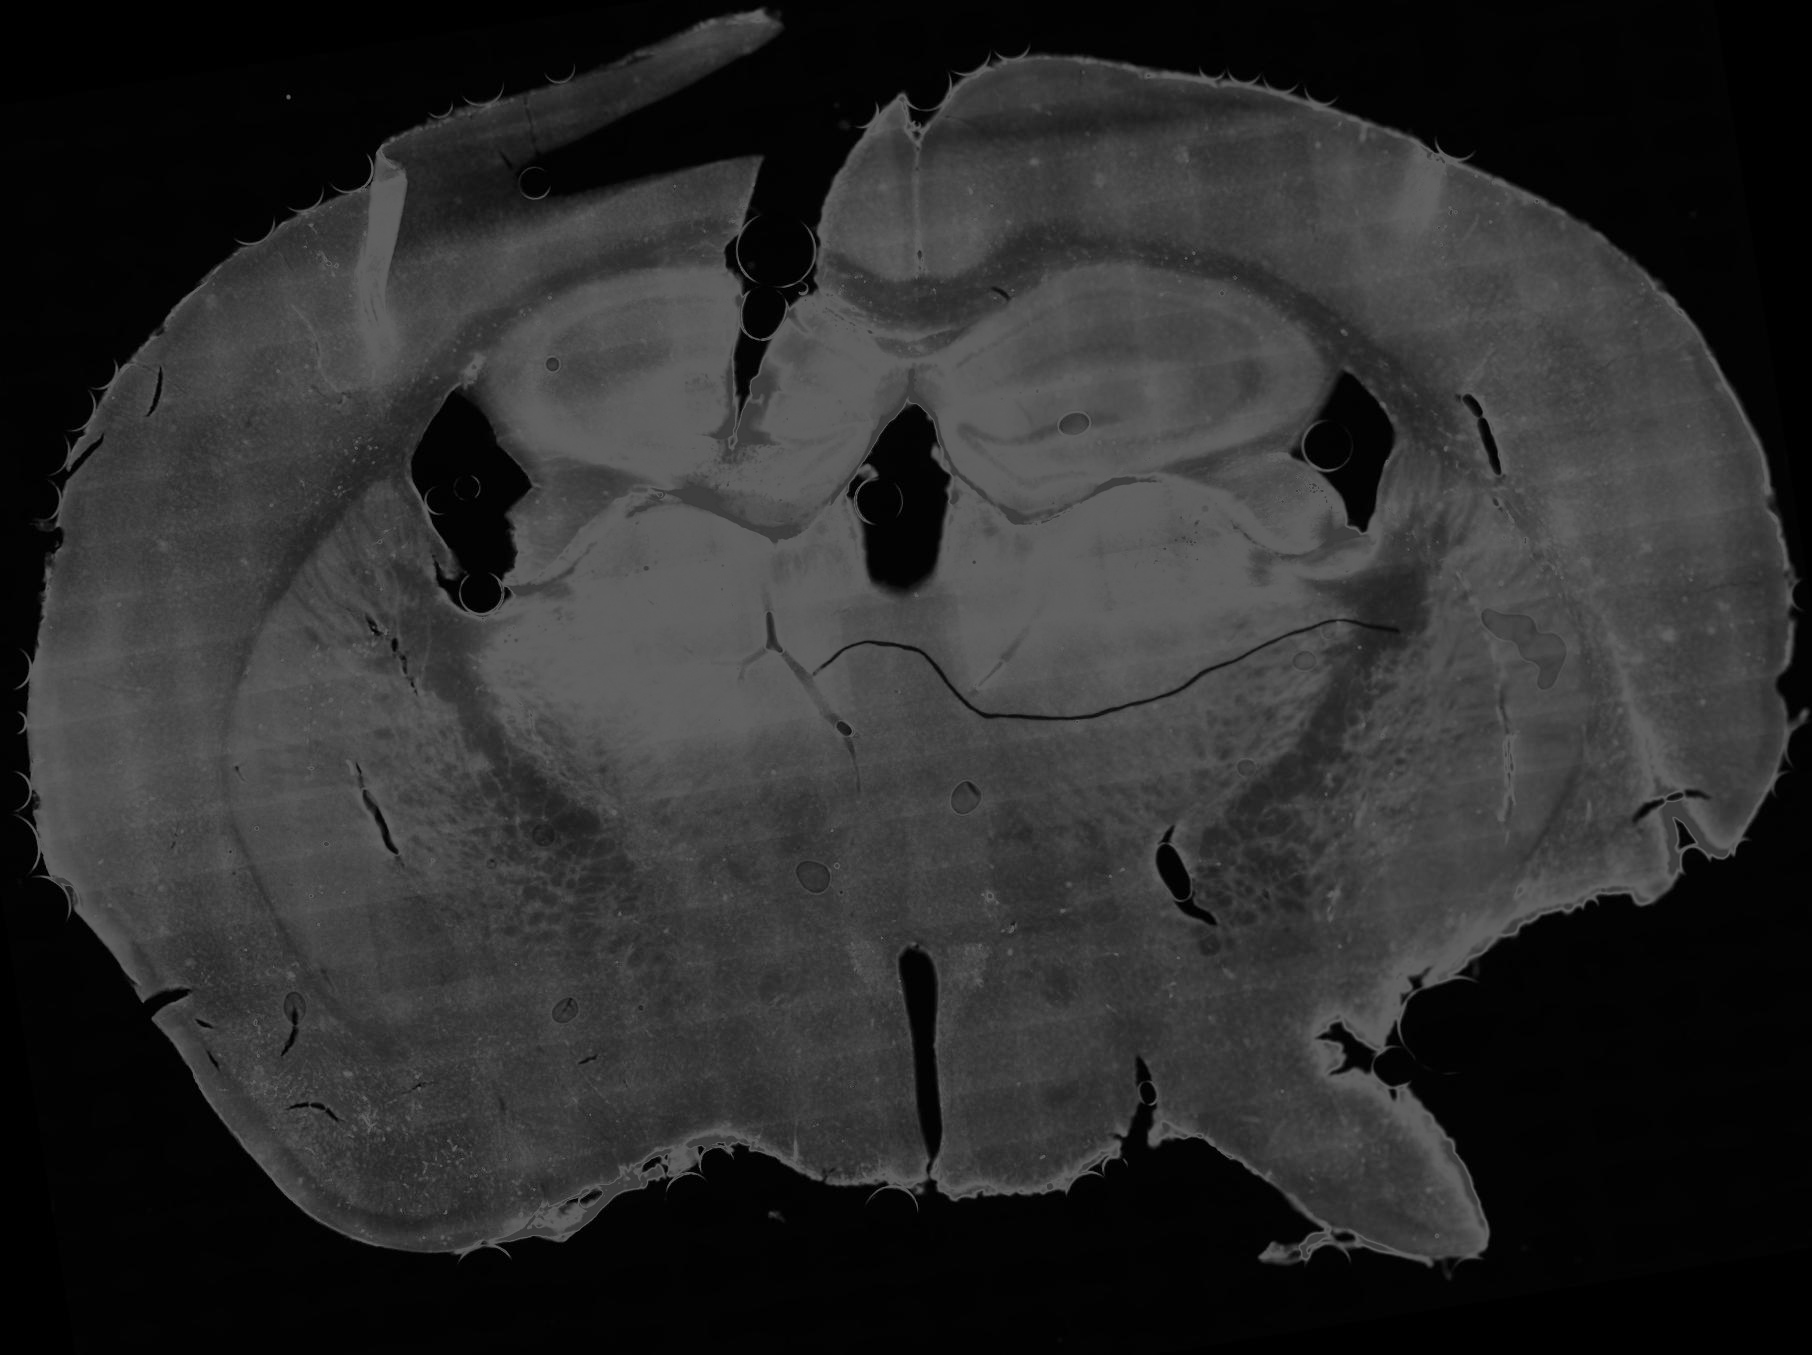Cerebral nuclei: (222, 478, 457, 1023), (1381, 443, 1594, 870)
Hippocampal formation: (485, 268, 911, 529), (911, 263, 1322, 521)
Hypothalamus: (915, 803, 1237, 1203), (628, 845, 932, 1187)
Retrosplenial area: (918, 78, 1023, 282)
Somatosensory area: (1120, 71, 1661, 485), (28, 212, 421, 703)
Thalamus: (902, 475, 1361, 937), (481, 485, 915, 937)
